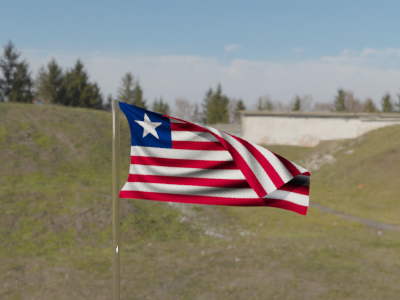Liberia flag: (117, 100, 313, 217)
